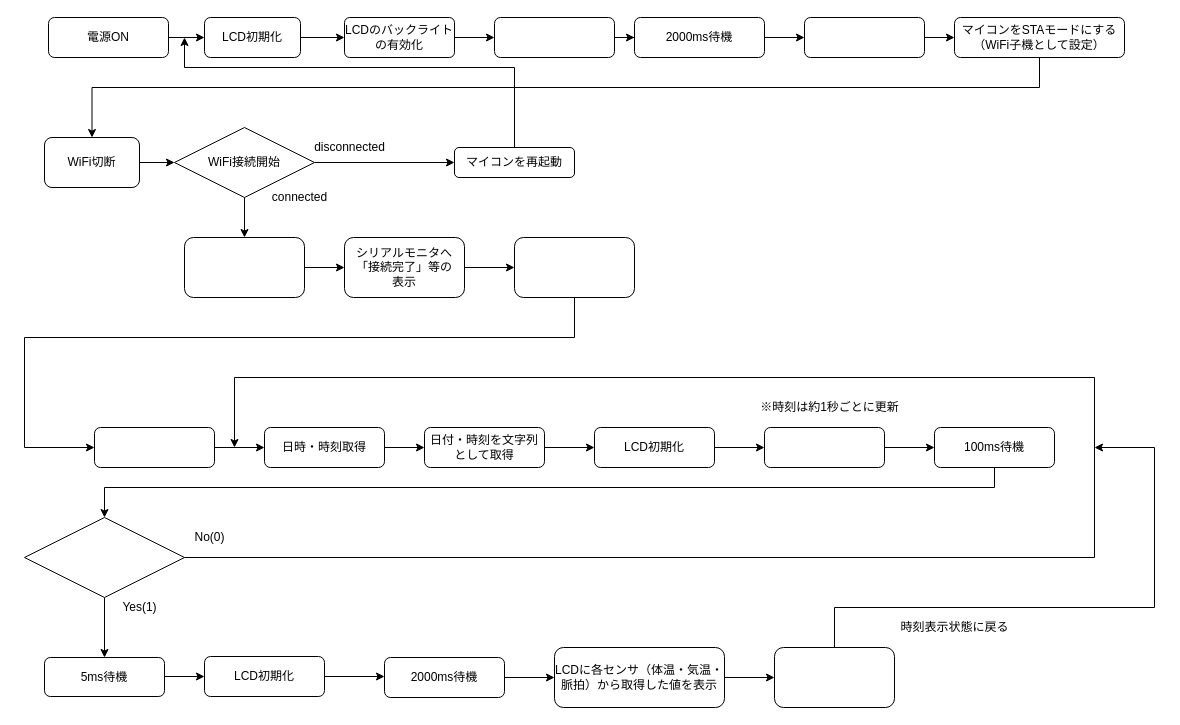
Image size: 1180x725. Some labels were removed from this diagram. The box of each missing label's shape, as (x1, y1, x2, y2) in pixels:
1000ms待機: (184, 236, 304, 298)
5000ms待機: (774, 646, 894, 708)
LCDへ 日時・時刻表示: (764, 426, 884, 468)
LCDへグループ名・班番号を表示: (494, 16, 614, 58)
SWの入力を受け取る変数を用意する: (94, 426, 214, 468)
もしSWが押された時: (24, 516, 184, 598)
スイッチの入力動作有効化設定: (804, 16, 924, 58)
日時・時刻合わせの設定: (514, 236, 634, 298)
